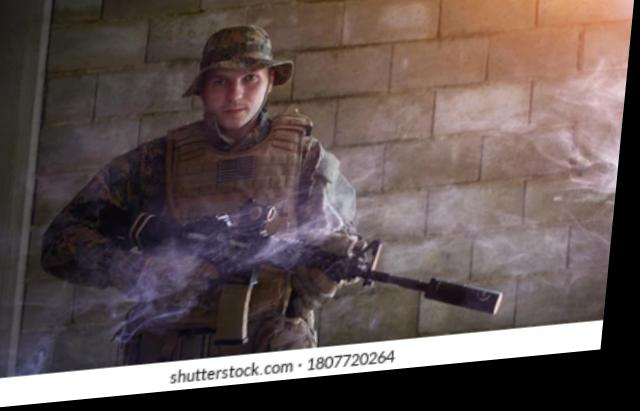other: (41, 23, 383, 363)
